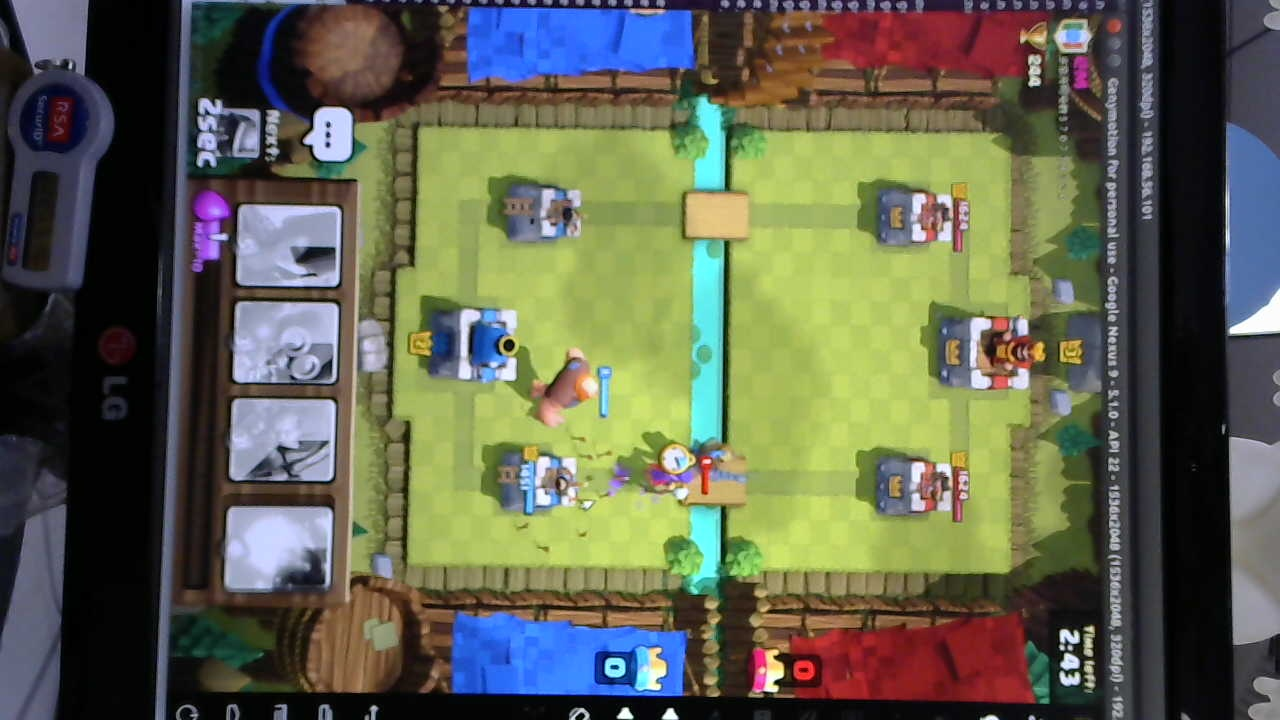prince: (654, 439, 744, 483)
